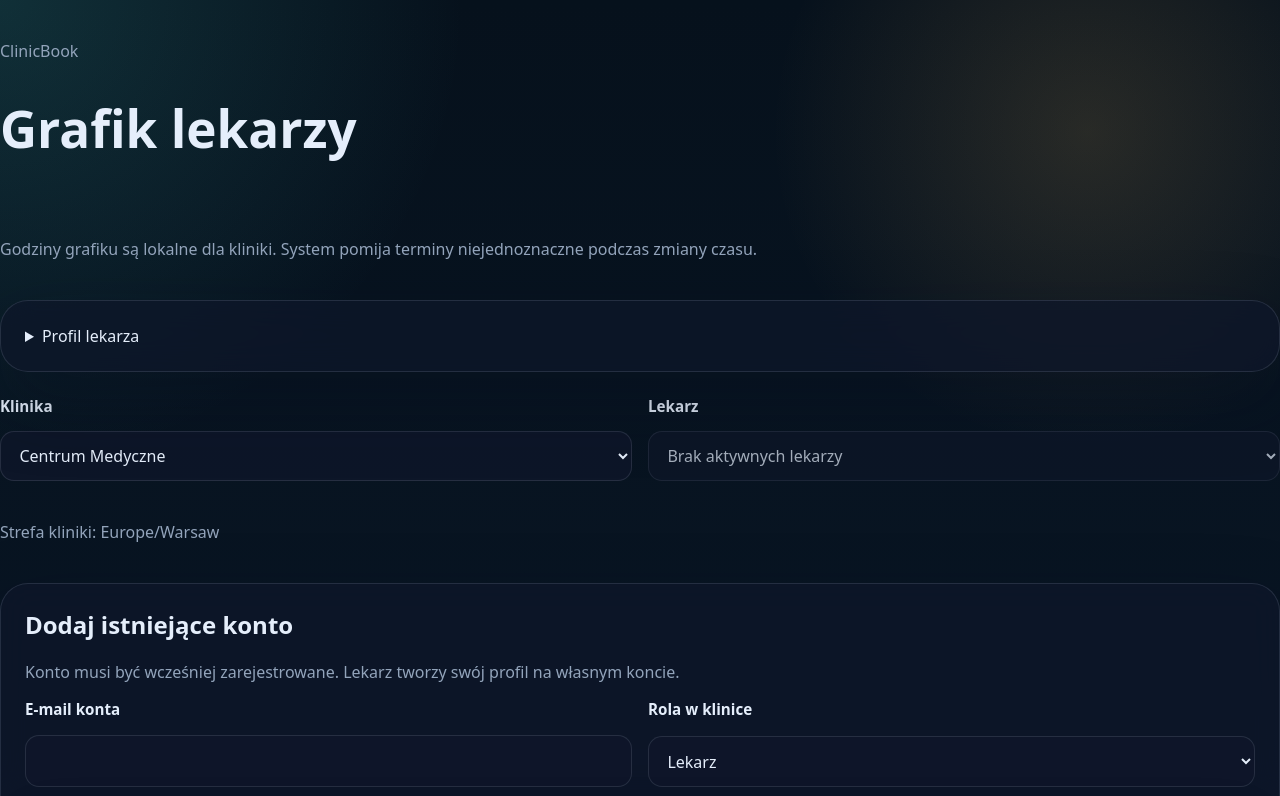
it: ClinicSchedule page › adds an existing clinic account with the selected clinic role
In the field labelled "E-mail konta": {"x": 328, "y": 761} x1=25 y1=734 x2=632 y2=787, type "new-doctor@example.com"
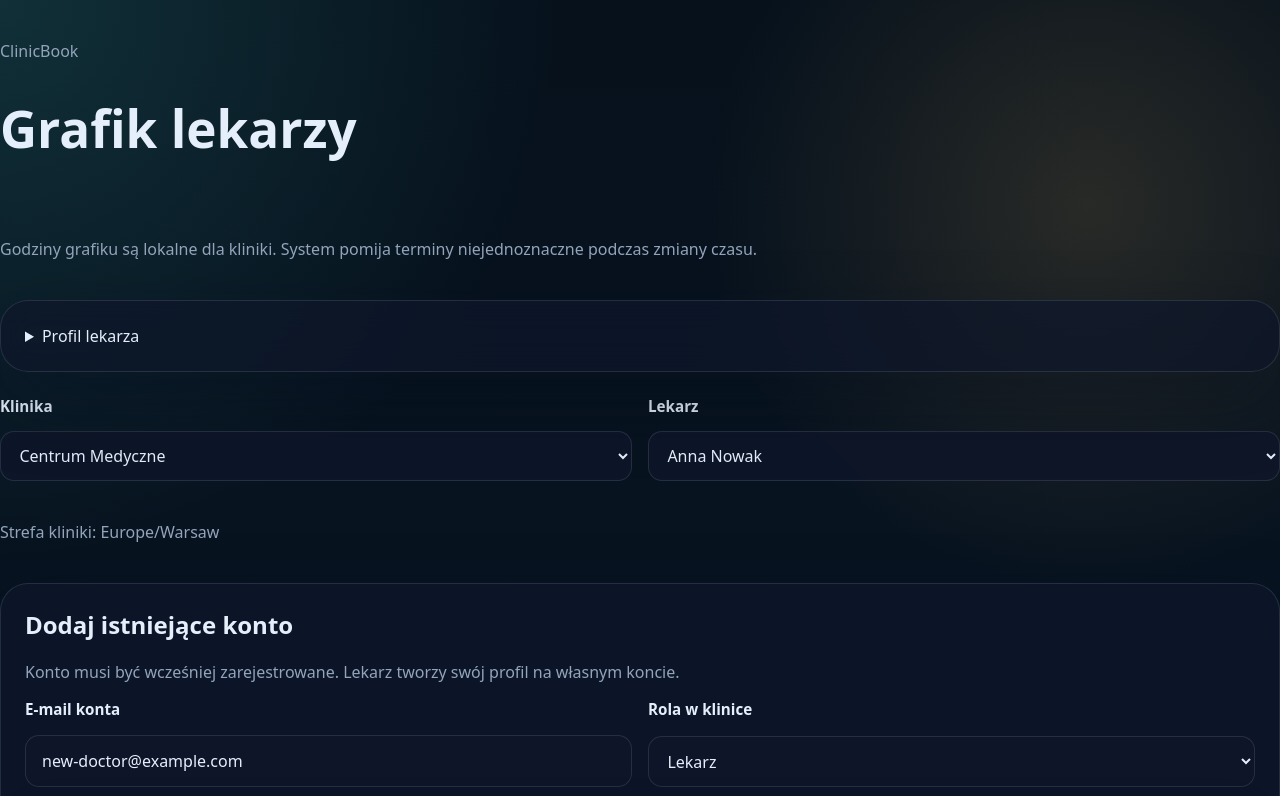
Select "Lekarz" in the dropdown labelled "Rola w klinice": {"x": 952, "y": 762} x1=648 y1=736 x2=1255 y2=787
(page scrolled)
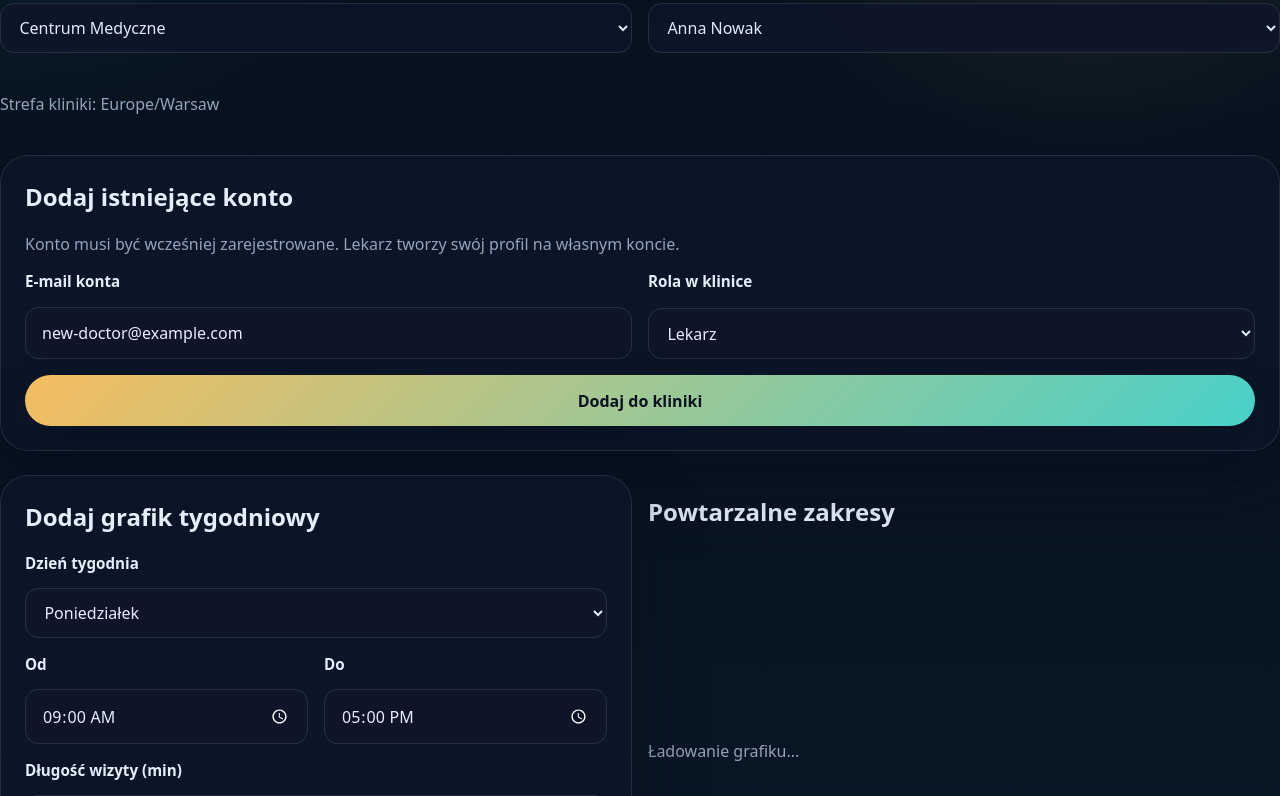
Click the button "Dodaj do kliniki": {"x": 640, "y": 401} x1=25 y1=375 x2=1255 y2=426
(page scrolled)
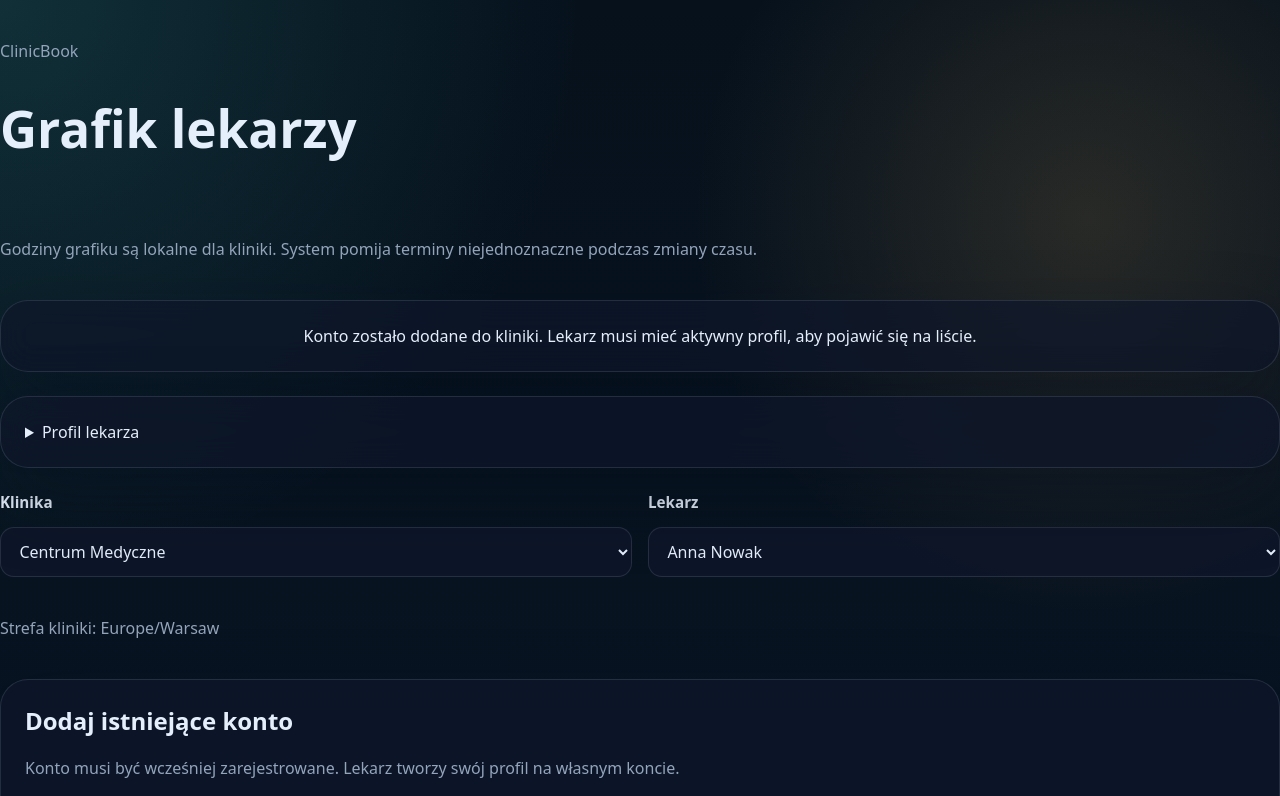
Now the message shows "Konto zostało dodane do kliniki", box x1=304 y1=325 x2=976 y2=347
